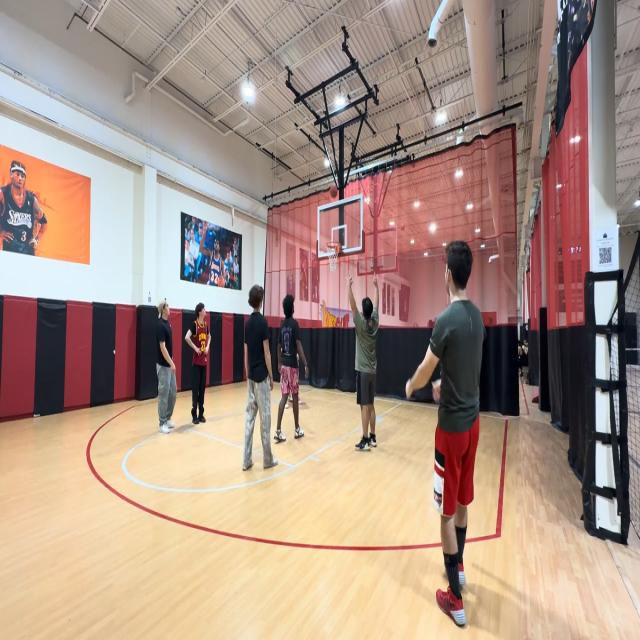Basketball: (329, 182, 338, 198)
Basketball Rim: (326, 241, 342, 274)
Player: (404, 243, 486, 629), (242, 284, 280, 471), (344, 274, 382, 455), (276, 294, 308, 440), (154, 297, 178, 432), (185, 302, 210, 429)
